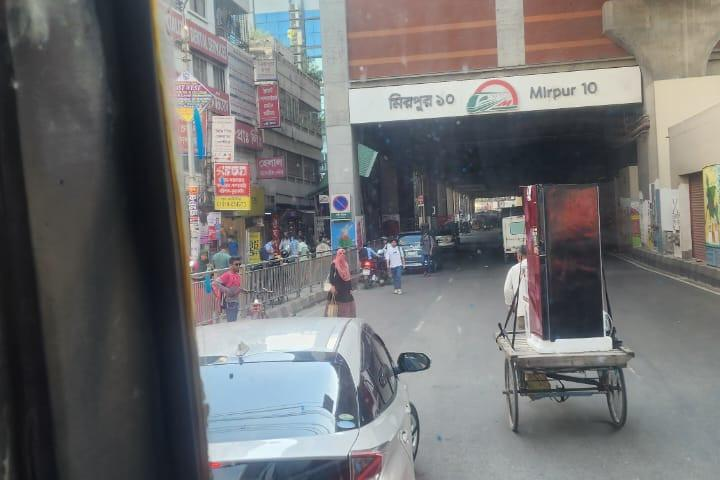No Parking: (328, 190, 353, 224)
